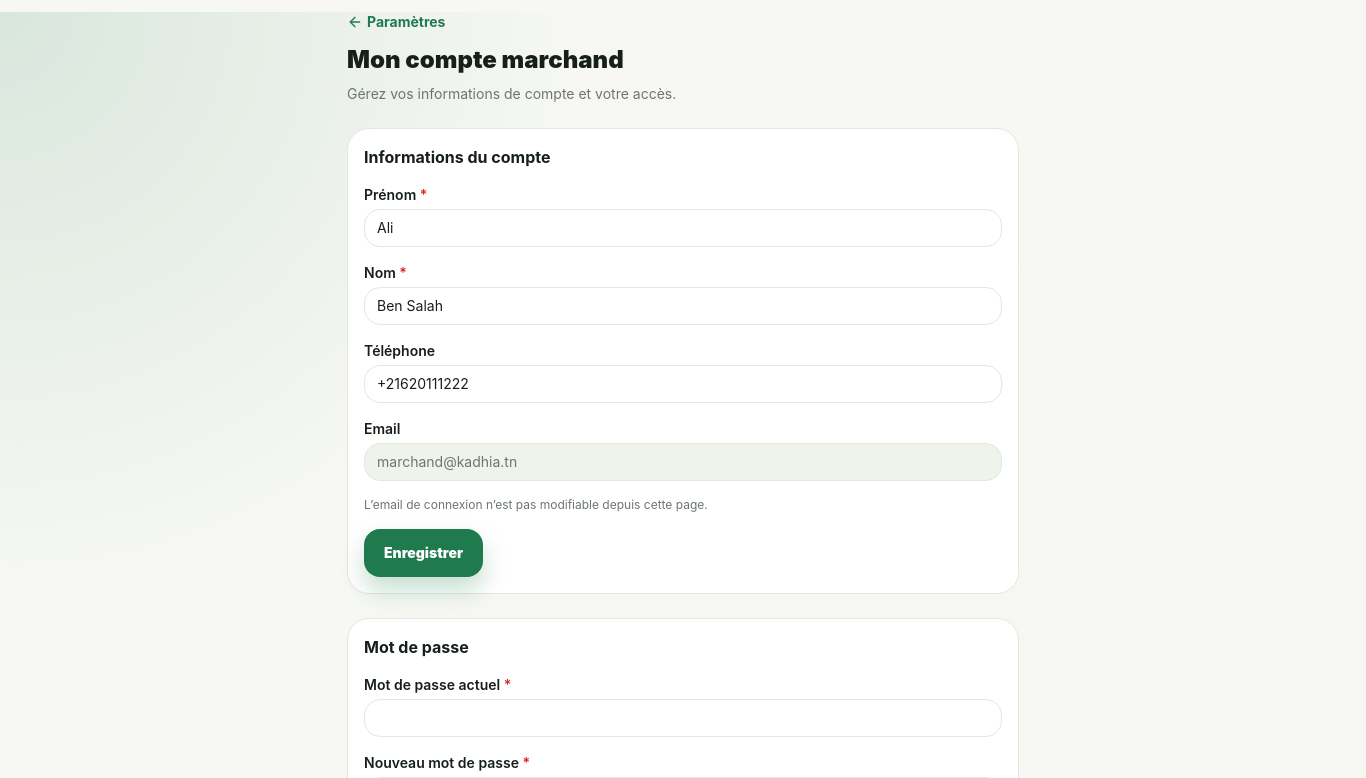
Scenario: MerchantAccountPage (MS-003) › sauvegarde uniquement les champs profil autorisés et rafraîchit le contexte
Step 1. Replace the text in the field labelled "Prénom *" with "Noura" → coordinates (683, 228), box [364, 209, 1002, 247]
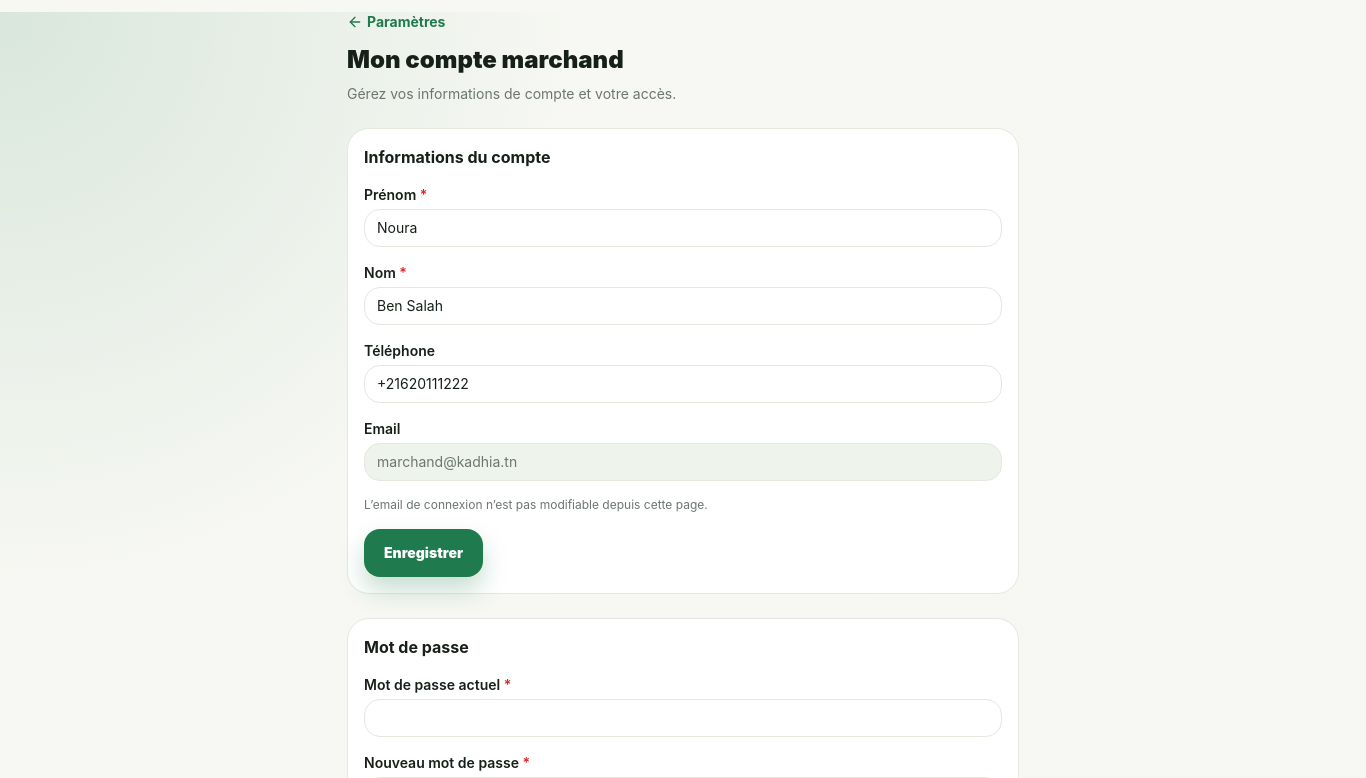
Step 2. Replace the text in the field labelled "Nom *" with "Kacem" → coordinates (683, 306), box [364, 287, 1002, 325]
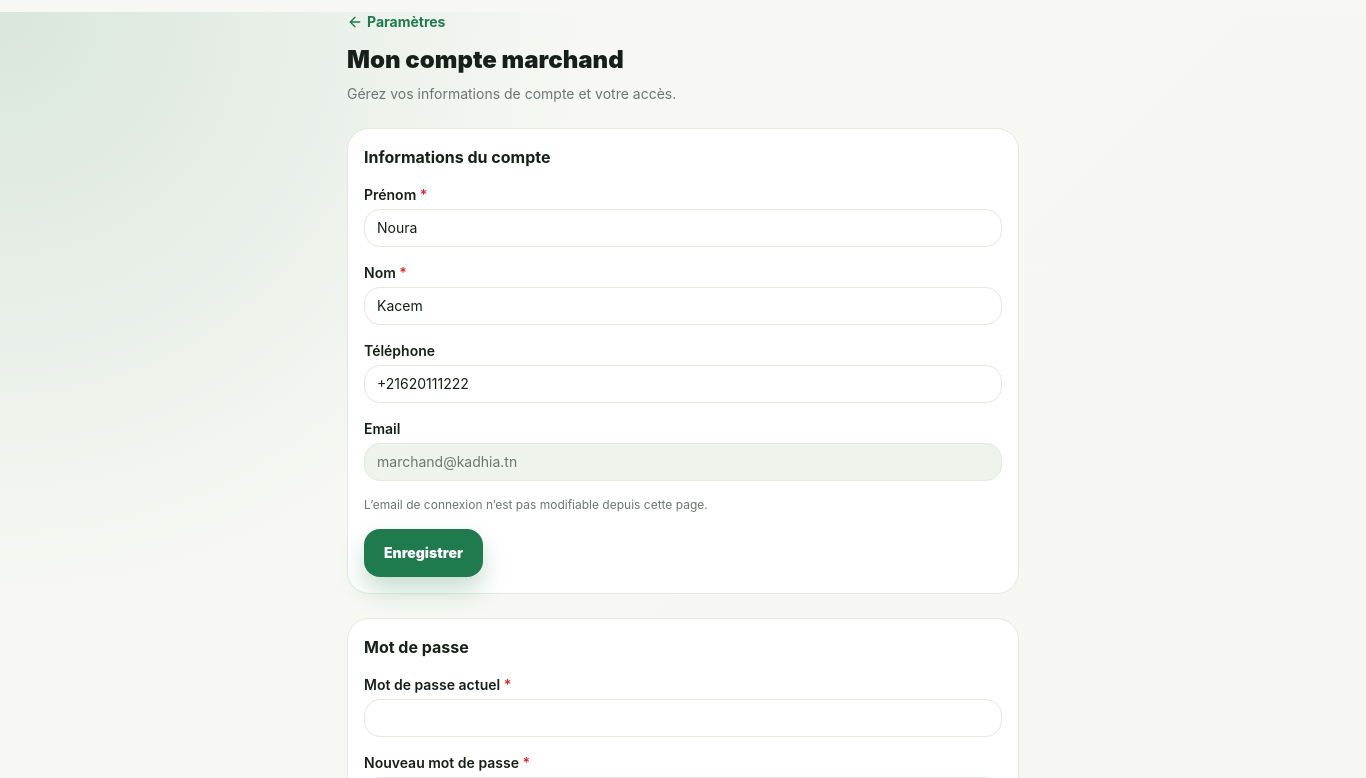
Step 3. Replace the text in the field labelled "Téléphone" with "+21622999888" → coordinates (683, 384), box [364, 365, 1002, 403]
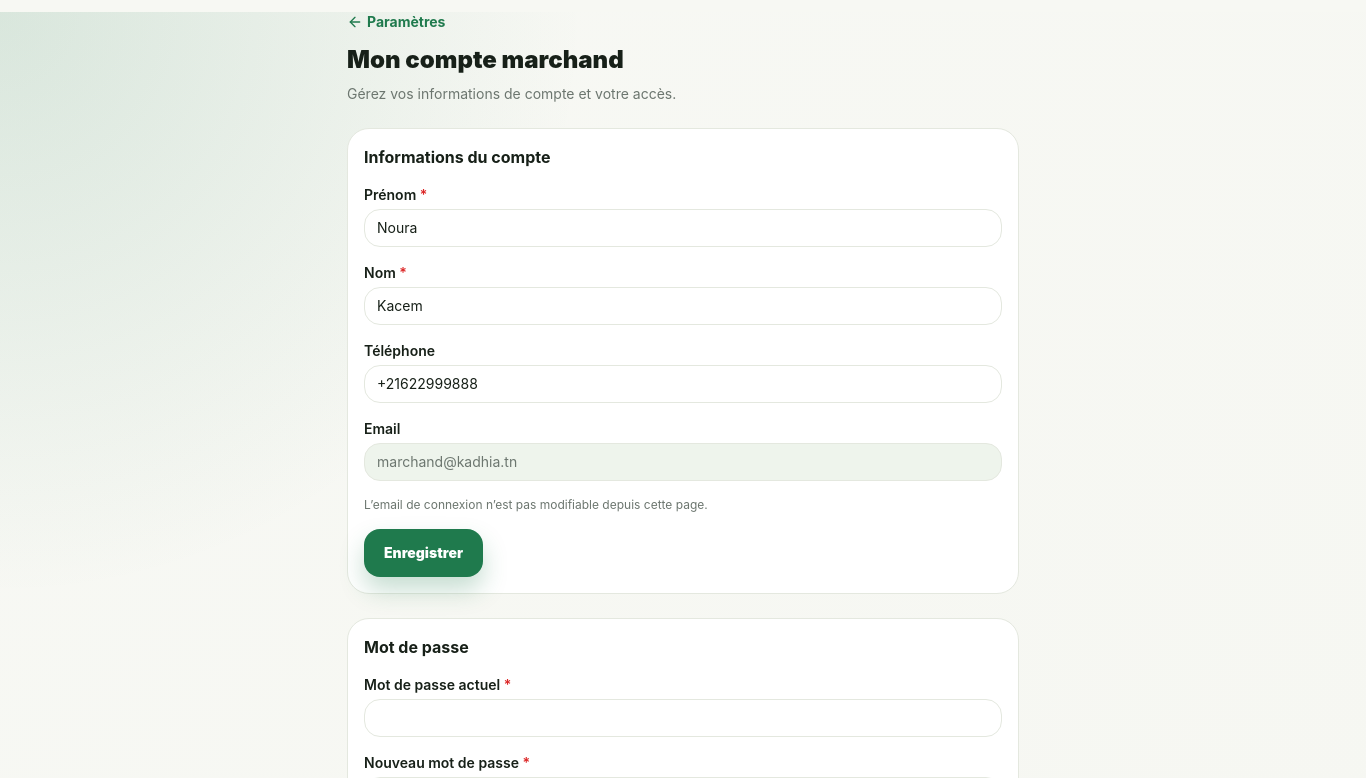
Step 4. Click the button "Enregistrer" → coordinates (424, 553), box [364, 529, 483, 577]
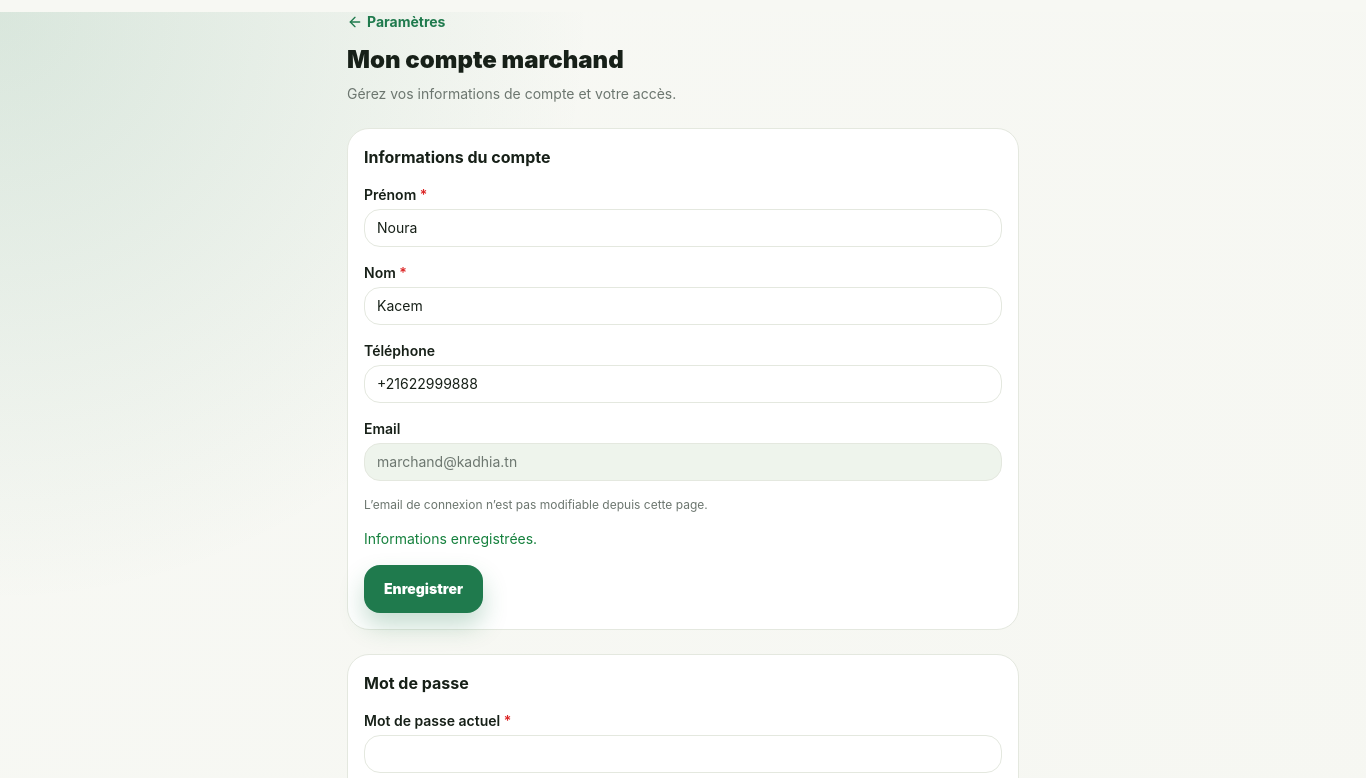
Expected: the text "Informations enregistrées." is shown, [364, 530, 537, 547]
